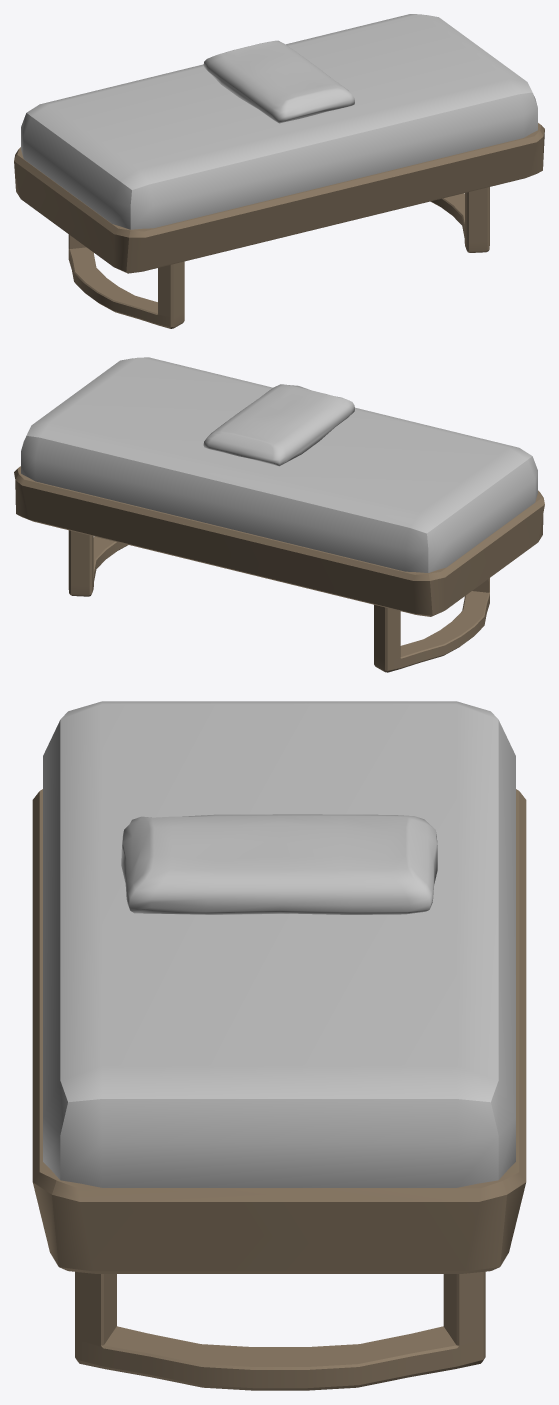
File: bed_ver1.fbx
The picture shows the model from 3 angles, top to bottom: view 1: azimuth 30°, elevation 25°; view 2: azimuth 150°, elevation 25°; view 3: azimuth 270°, elevation 25°; orthographic projection. The views are drawn at different scales.
Parts seen in each view (by area): view 1: bed1, pillow; view 2: bed1, pillow; view 3: bed1, pillow.
Boxes of the visible parts, x1=… form: bed1: x1=14, y1=14, x2=544, y2=328; pillow: x1=203, y1=40, x2=354, y2=123; bed1: x1=14, y1=357, x2=544, y2=672; pillow: x1=203, y1=384, x2=354, y2=466; bed1: x1=32, y1=701, x2=526, y2=1390; pillow: x1=121, y1=814, x2=437, y2=914.
Bounding box in the file's own units: 1.98 × 0.811 × 0.982.
